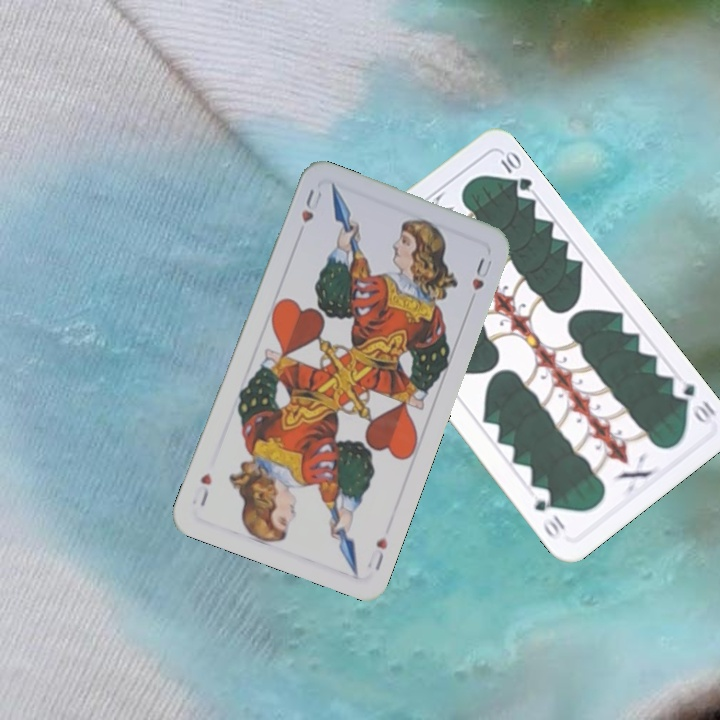G10: (667, 374, 719, 428)
HU: (363, 532, 391, 573), (297, 185, 325, 225)
